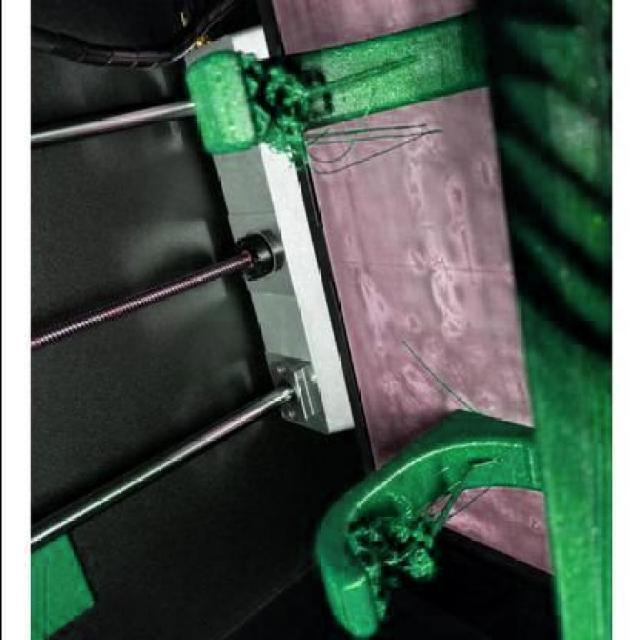spaghetti: (243, 56, 442, 175), (348, 495, 436, 621)
